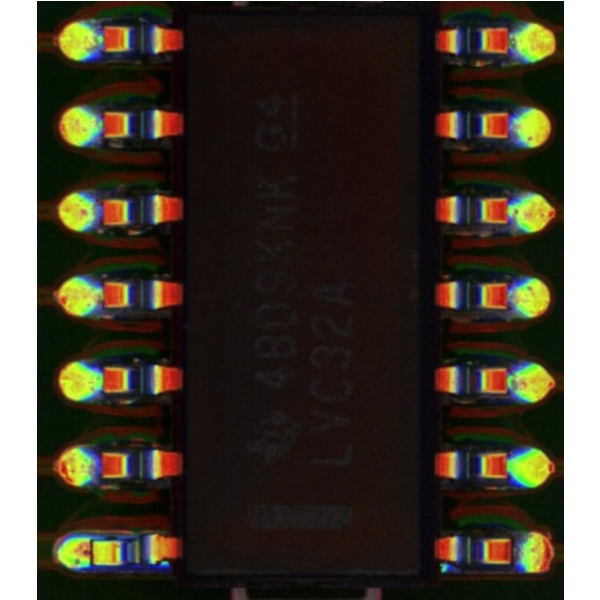Bad_podu: (71, 541, 103, 561)
